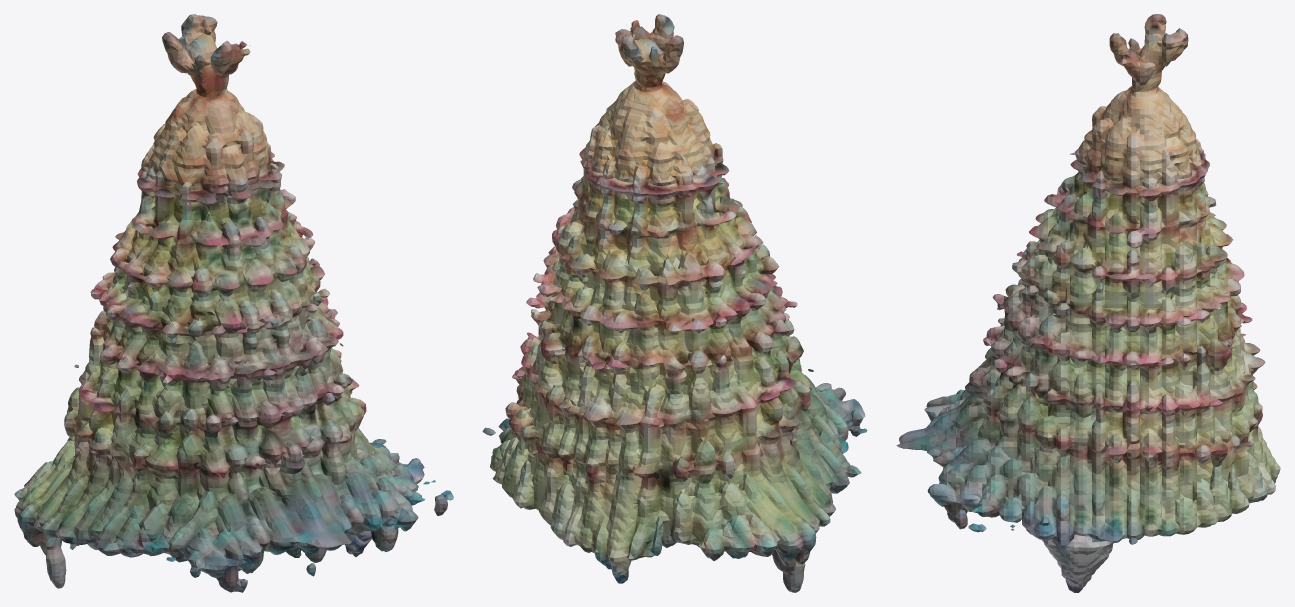
File: diyogyakarta.glb
3 renders of one model, left to right at view 1: azimuth 30°, elevation 25°; view 2: azimuth 150°, elevation 25°; view 3: azimuth 270°, elevation 25°, orthographic. The views are drawn at different scales.
Visible parts, largest first — view 1: world; view 2: world; view 3: world.
Part boxes in pixels (box(x1,y1,x2,y2)): world: box(14, 14, 453, 592); world: box(482, 14, 867, 592); world: box(896, 14, 1280, 592).
Size of the model in its own units: 0.6065 by 0.8805 by 0.5978.
